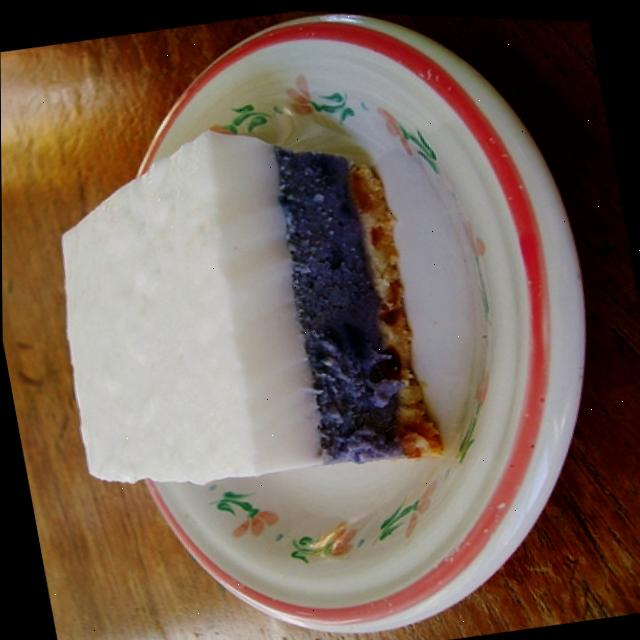蛋糕甜品: (0, 22, 550, 627)
